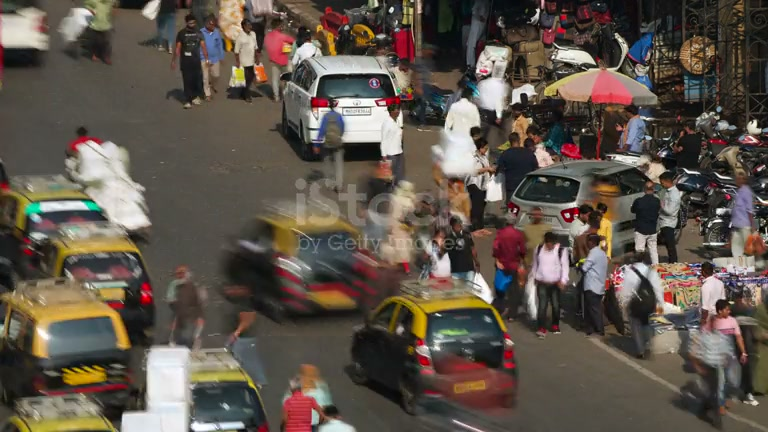car: (346, 288, 520, 419), (0, 276, 137, 425), (278, 54, 404, 162), (0, 173, 113, 289), (120, 346, 271, 430), (508, 159, 651, 243), (58, 246, 157, 341), (0, 1, 50, 67)
pedestrian: (686, 309, 737, 423), (528, 229, 569, 338), (712, 299, 753, 406), (491, 217, 528, 319), (165, 265, 207, 351), (622, 261, 658, 360), (170, 14, 208, 107), (495, 132, 540, 208), (577, 233, 609, 337), (263, 19, 296, 103), (630, 181, 662, 266), (728, 170, 757, 261), (443, 214, 480, 285), (280, 376, 326, 432), (656, 172, 683, 264), (80, 0, 117, 66), (200, 14, 227, 100), (233, 19, 259, 101), (317, 404, 357, 431)
